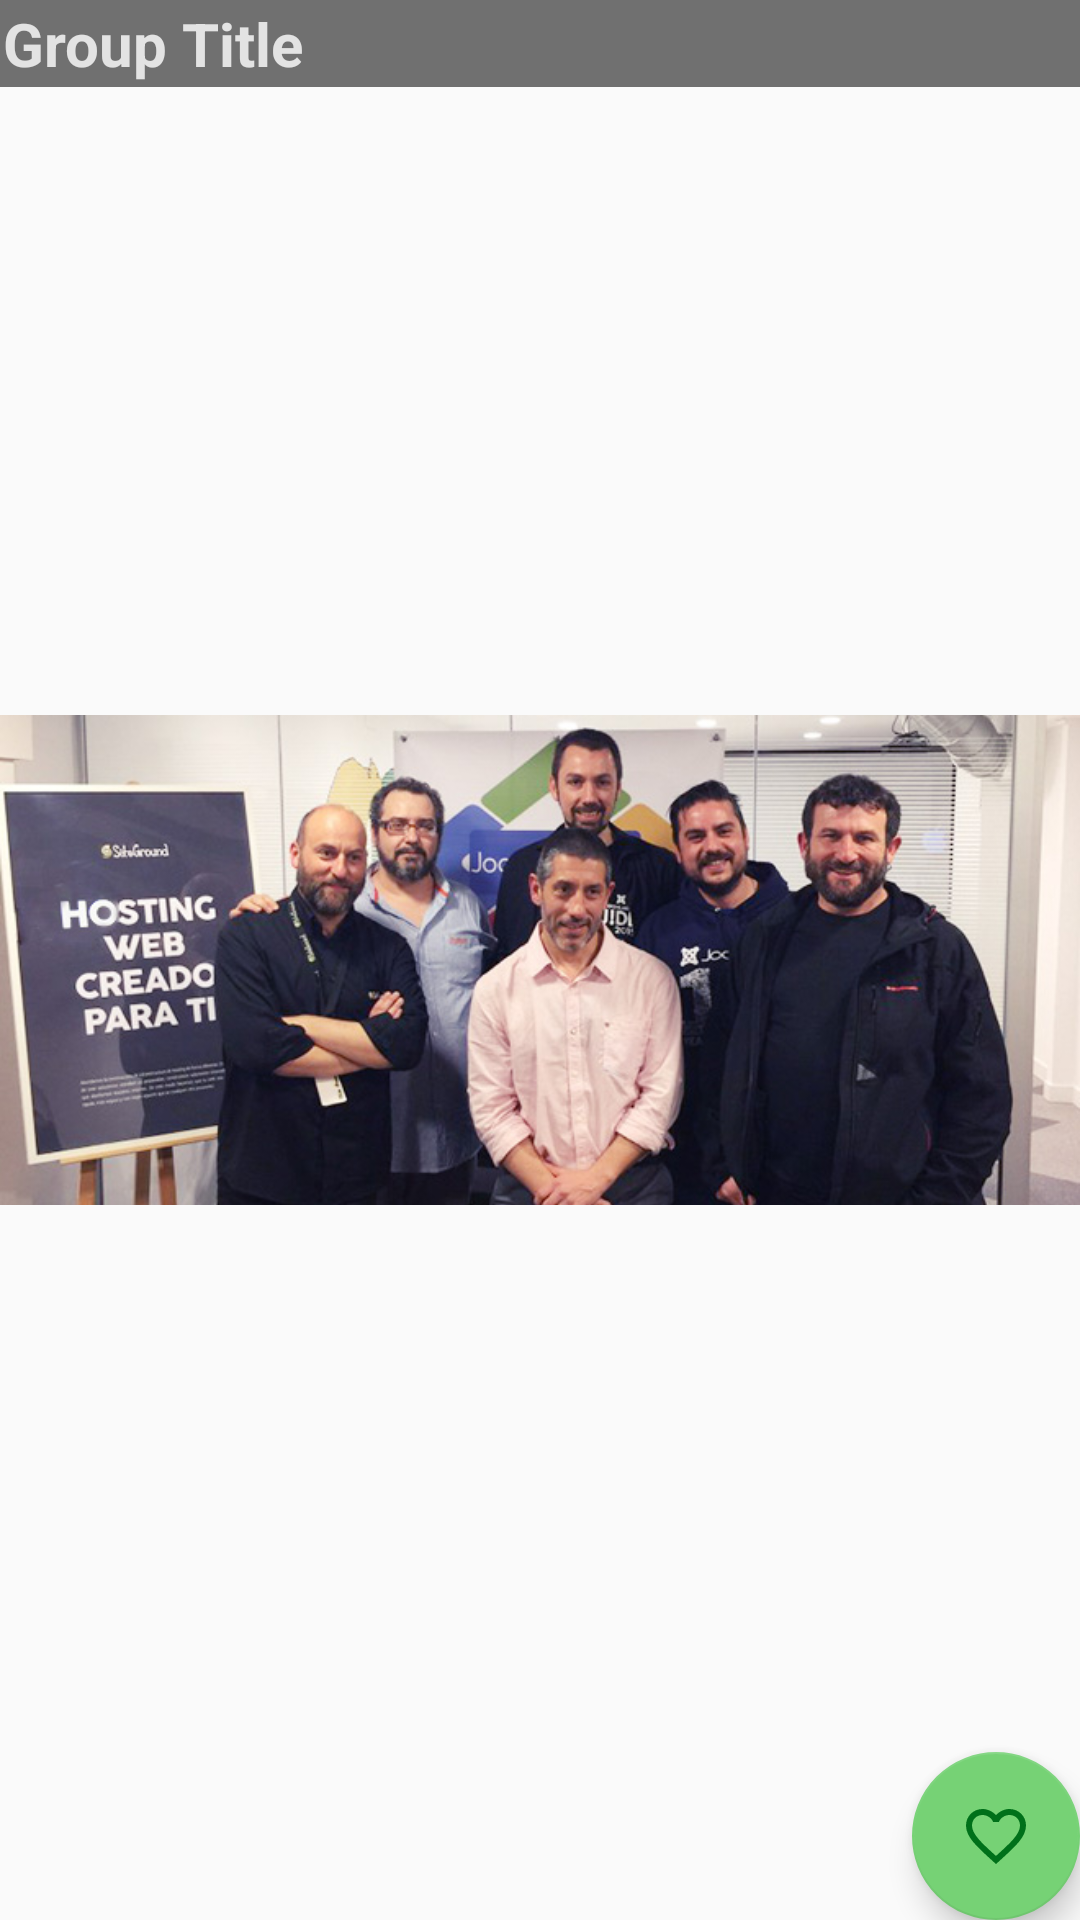

Point at icon controls on the screen. Image size 1080x1920, points as [x,y].
heart: [996,1836]
